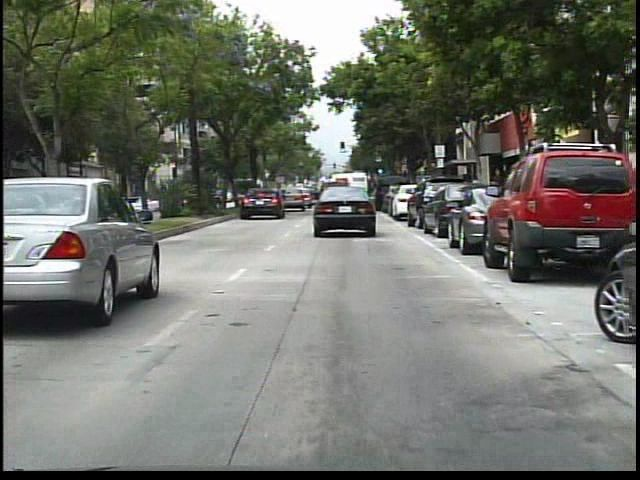person: (485, 160, 509, 221)
